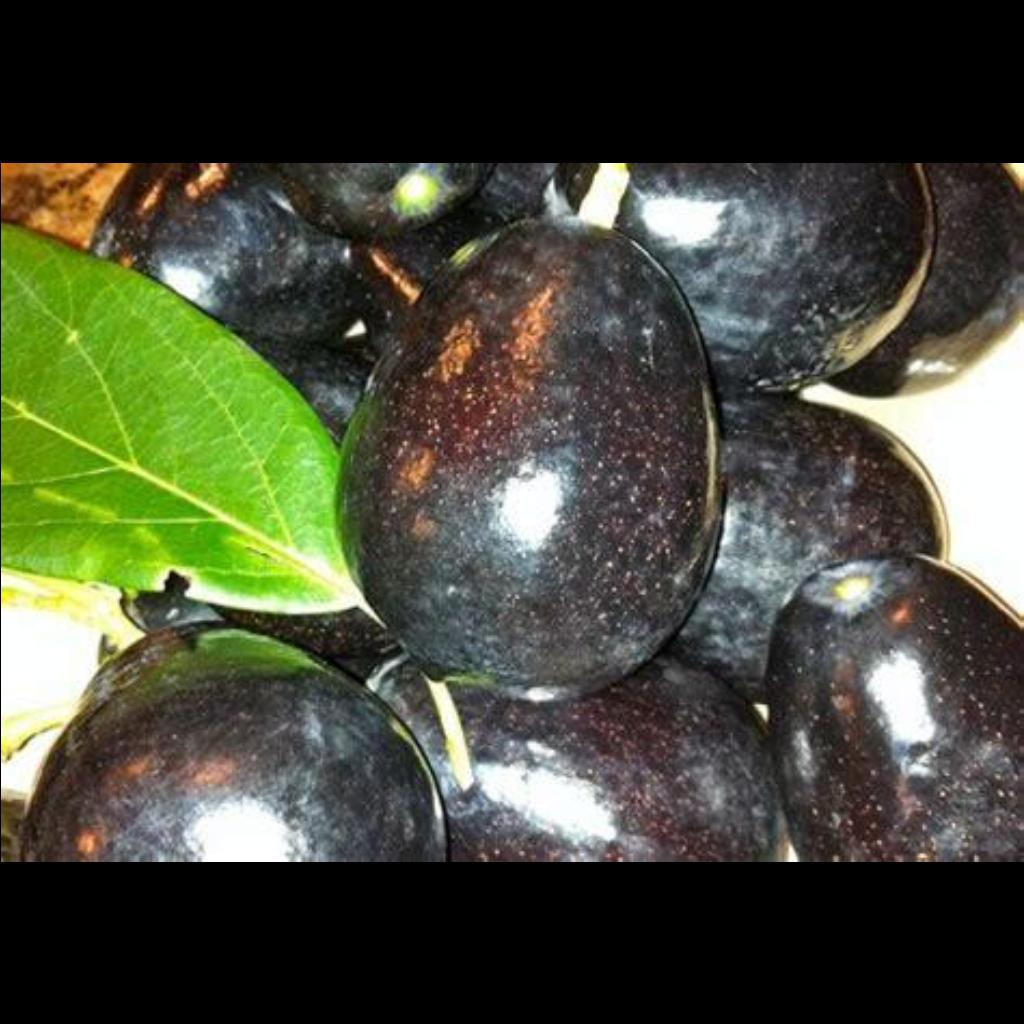Healthy: (337, 207, 741, 671), (20, 612, 442, 862), (758, 536, 1024, 858)
